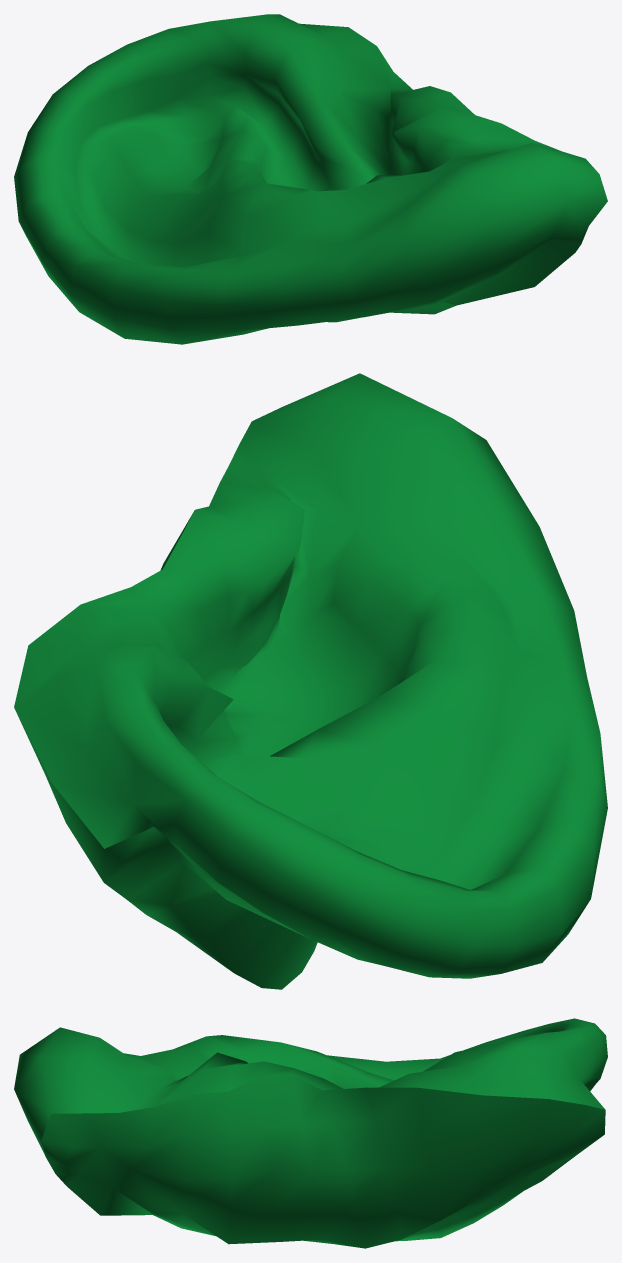
File: Ear.FBX
3 views of the same model, one above another, from view 1: azimuth 30°, elevation 25°; view 2: azimuth 150°, elevation 25°; view 3: azimuth 270°, elevation 25° (orthographic). The views are drawn at different scales.
Visible parts, largest first — view 1: Ear; view 2: Ear; view 3: Ear.
Part boxes in pixels (left/top/right/bottom): Ear: left=14, top=14, right=607, bottom=344; Ear: left=14, top=373, right=607, bottom=989; Ear: left=14, top=1018, right=607, bottom=1248.
Size of the model in its own units: 4.2 by 2.73 by 5.81.
